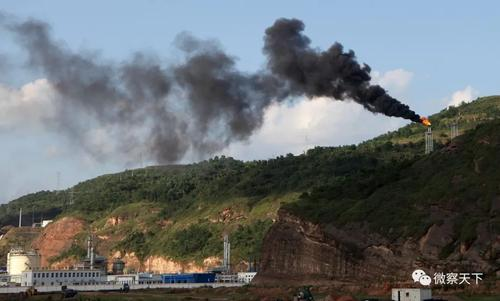smoke: (218, 20, 424, 124)
